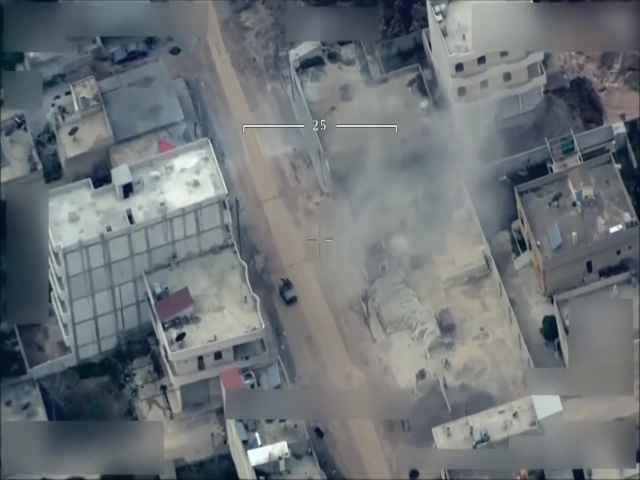vehicle: (278, 278, 300, 306)
